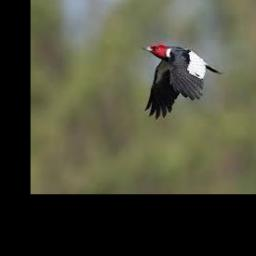Woodpecker: (142, 43, 224, 119)
